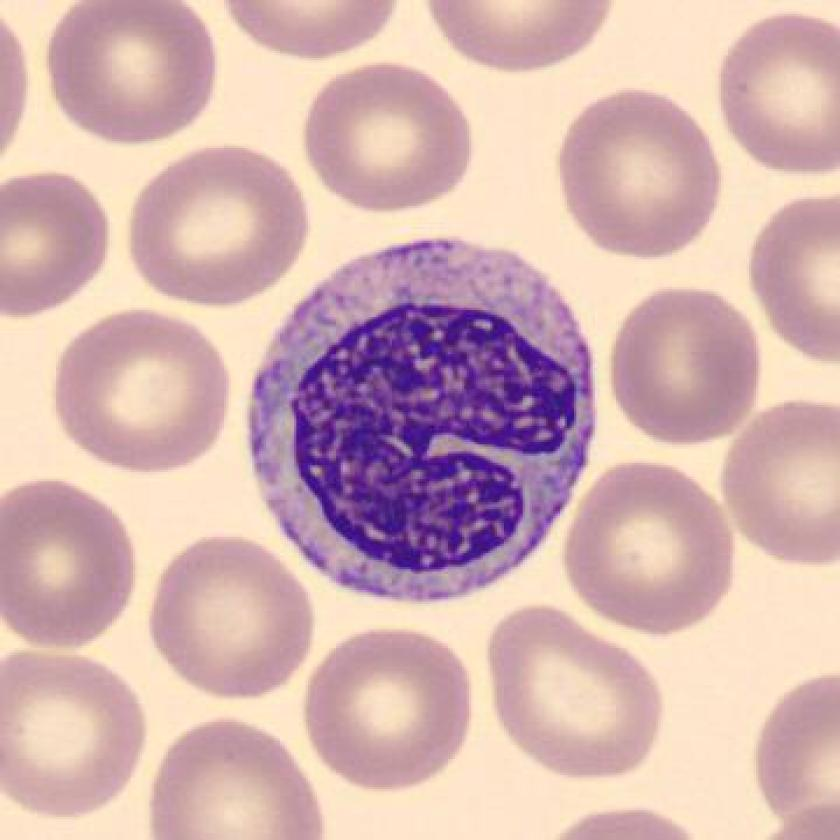monocyte: (239, 221, 612, 612)
